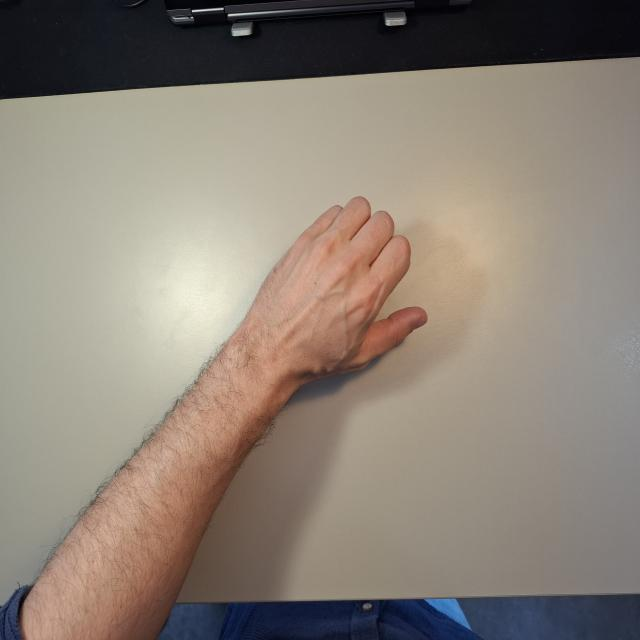glove_off: (243, 194, 429, 413)
